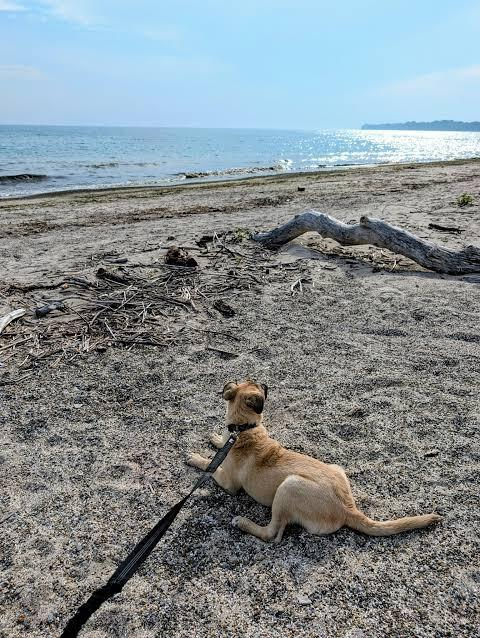adult_dog: (184, 379, 445, 546)
